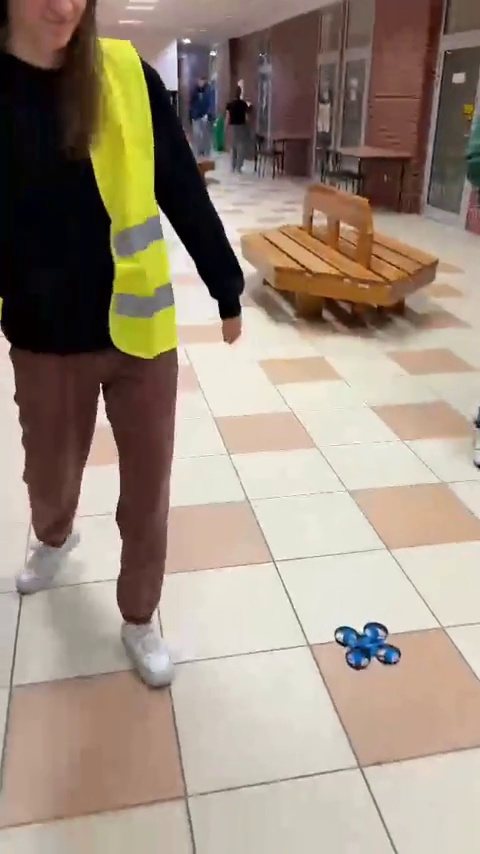drone: (333, 626, 403, 670)
no vest: (220, 84, 255, 165), (185, 76, 214, 153)
vest: (2, 4, 213, 683)
